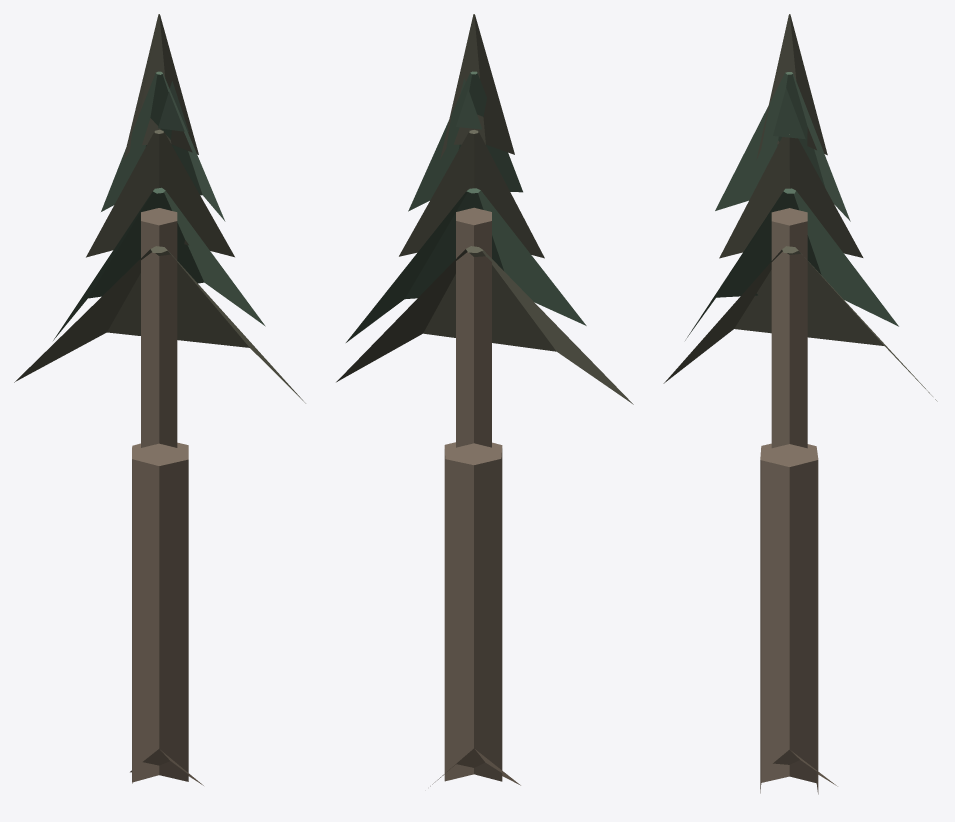
File: shu.hongpi@subadult__winter.glb
The picture shows the model from 3 angles, left to right: view 1: azimuth 30°, elevation 25°; view 2: azimuth 150°, elevation 25°; view 3: azimuth 270°, elevation 25°; orthographic projection.
Parts seen in each view (by area): view 1: shu.hongpi@subadult__winter; view 2: shu.hongpi@subadult__winter; view 3: shu.hongpi@subadult__winter.
Boxes of the visible parts, x1=… form: shu.hongpi@subadult__winter: x1=14, y1=14, x2=305, y2=785; shu.hongpi@subadult__winter: x1=336, y1=14, x2=633, y2=786; shu.hongpi@subadult__winter: x1=663, y1=14, x2=937, y2=794.
Bounding box in the file's own units: 3.6 × 10.76 × 3.49.
